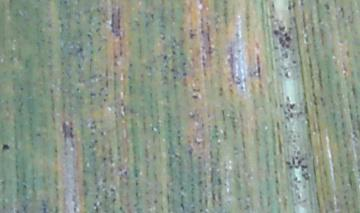tarspot: (273, 25, 291, 48), (1, 143, 9, 150)
